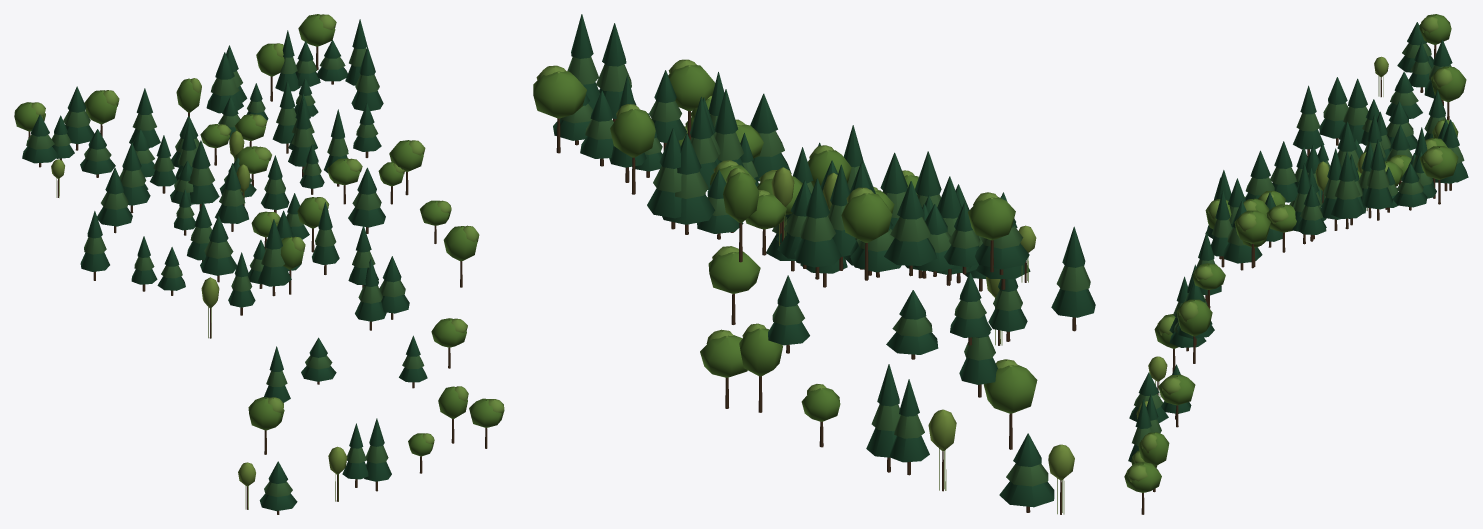
The model's file is forest_3_6.dae.
3 views of the same model, side by side, from view 1: azimuth 30°, elevation 25°; view 2: azimuth 150°, elevation 25°; view 3: azimuth 270°, elevation 25° (orthographic). The views are drawn at different scales.
Visible parts, largest first — view 1: forest_3_6; view 2: forest_3_6; view 3: forest_3_6.
Boxes of the visible parts, x1,y1,x2,y2 form: forest_3_6: [14, 14, 504, 514]; forest_3_6: [533, 14, 1095, 514]; forest_3_6: [1124, 14, 1468, 514].
Bounding box in the file's own units: 131 × 107 × 133.
